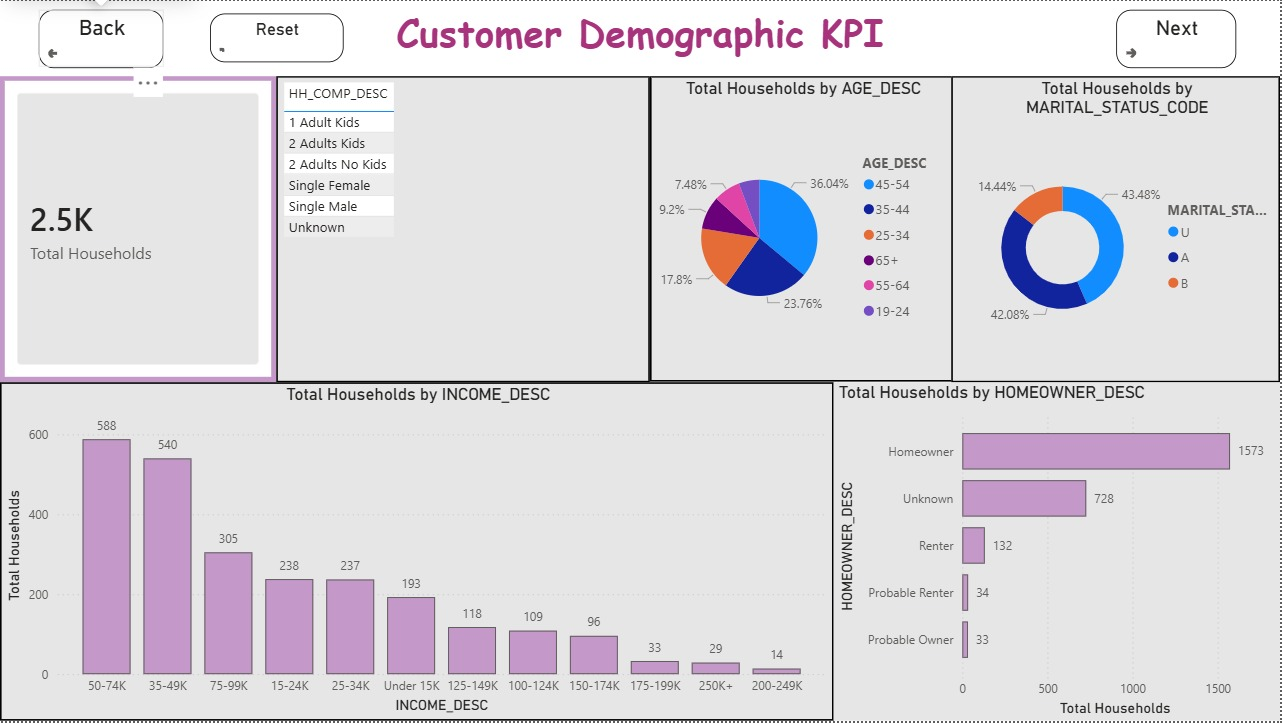

What the dashboard file says about the page in this screenshot:
{"tool":"powerbi","page":{"name":"Customer Demographic KPI","canvas":[1280,720],"ordinal":1},"visuals":[{"type":"cardVisual","fields":{"Data":["KPI.Total Households"]},"box":[0,75,276.2,306.2],"z":0},{"type":"tableEx","fields":{"Values":["hh_demographic.HH_COMP_DESC"]},"box":[276.7,75,373.3,306.7],"z":1000},{"type":"pieChart","fields":{"Category":["hh_demographic.AGE_DESC"],"Y":["KPI.Total Households"]},"box":[650,75,303.8,305.8],"z":2000},{"type":"donutChart","fields":{"Category":["hh_demographic.MARITAL_STATUS_CODE"],"Y":["KPI.Total Households"]},"box":[951.6,75,328.7,306.2],"z":3000},{"type":"clusteredColumnChart","fields":{"Category":["hh_demographic.INCOME_DESC"],"Y":["KPI.Total Households"]},"box":[0,381.7,833.3,338.3],"z":4000},{"type":"textbox","box":[0,0,1280.3,75],"z":5000},{"type":"barChart","fields":{"Y":["KPI.Total Households"],"Category":["hh_demographic.HOMEOWNER_DESC"]},"box":[833.8,381.2,446.2,338.8],"z":6000},{"type":"actionButton","title":"Next","box":[1116.7,8.3,120,58.3],"z":7000},{"type":"actionButton","title":"Back","box":[38.3,8.3,125,58.3],"z":8000},{"type":"actionButton","title":"Reset","box":[210.1,12.5,133.6,48.7],"z":9000}]}

Visuals, with their boxes in screenshot pixels (x1, y1, x2, y2), scaled from the page's 1280x720 canvas onto the 1283x723 screenshot:
cardVisual - KPI.Total Households: [x1=0, y1=75, x2=277, y2=383]
tableEx - hh_demographic.HH_COMP_DESC: [x1=277, y1=75, x2=652, y2=383]
pieChart - hh_demographic.AGE_DESC x KPI.Total Households: [x1=652, y1=75, x2=956, y2=382]
donutChart - hh_demographic.MARITAL_STATUS_CODE x KPI.Total Households: [x1=954, y1=75, x2=1282, y2=383]
clusteredColumnChart - hh_demographic.INCOME_DESC x KPI.Total Households: [x1=0, y1=383, x2=835, y2=722]
textbox: [x1=0, y1=0, x2=1282, y2=75]
barChart - KPI.Total Households x hh_demographic.HOMEOWNER_DESC: [x1=836, y1=383, x2=1282, y2=722]
"Next" actionButton: [x1=1119, y1=8, x2=1240, y2=67]
"Back" actionButton: [x1=38, y1=8, x2=164, y2=67]
"Reset" actionButton: [x1=211, y1=13, x2=345, y2=61]
